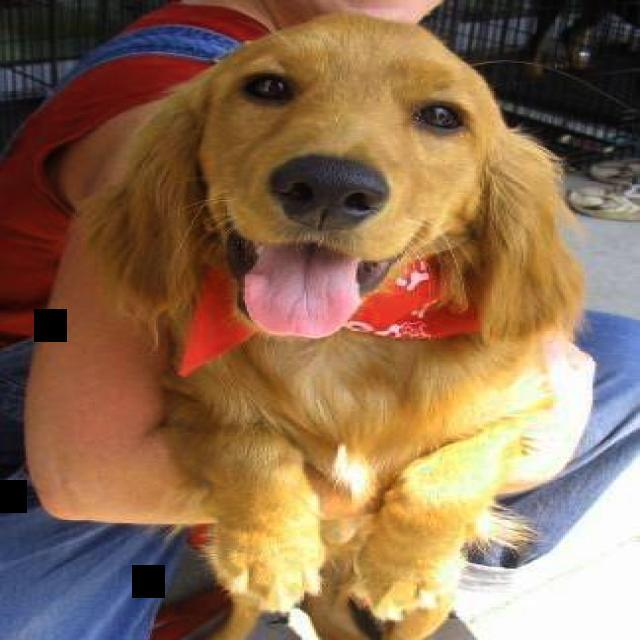puppy-dog: (86, 12, 586, 640)
